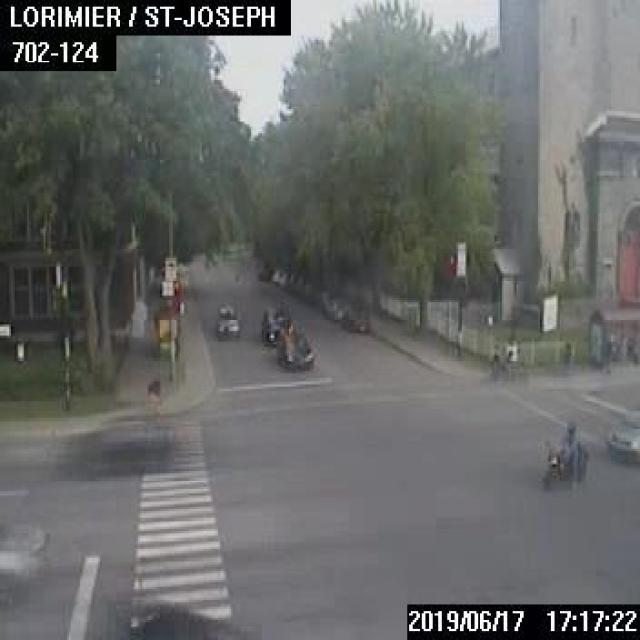pedestrian: (144, 369, 160, 415), (561, 336, 571, 368), (502, 345, 512, 377), (490, 347, 499, 378)
vehicle: (56, 424, 171, 474), (102, 604, 259, 638), (536, 422, 588, 489), (0, 544, 42, 602), (605, 415, 638, 462), (276, 328, 313, 369), (260, 305, 292, 342), (214, 304, 240, 336), (340, 307, 367, 330), (325, 297, 348, 317), (279, 271, 286, 287), (272, 268, 279, 282)
